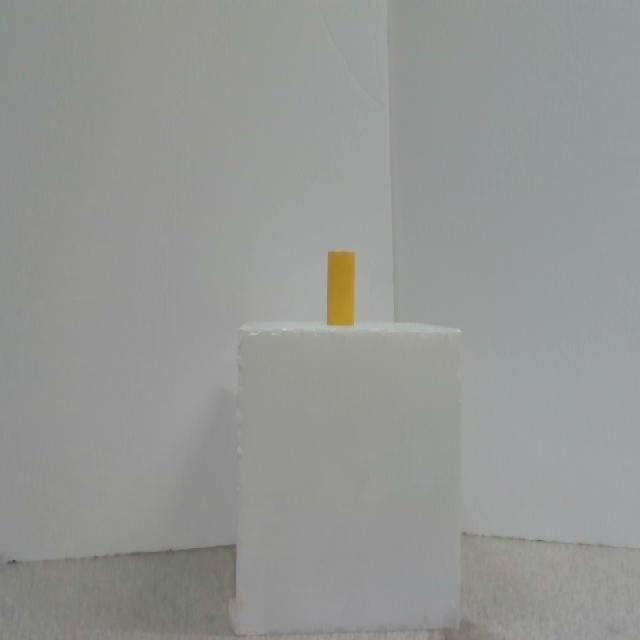yellow_cylinder: (328, 251, 354, 326)
